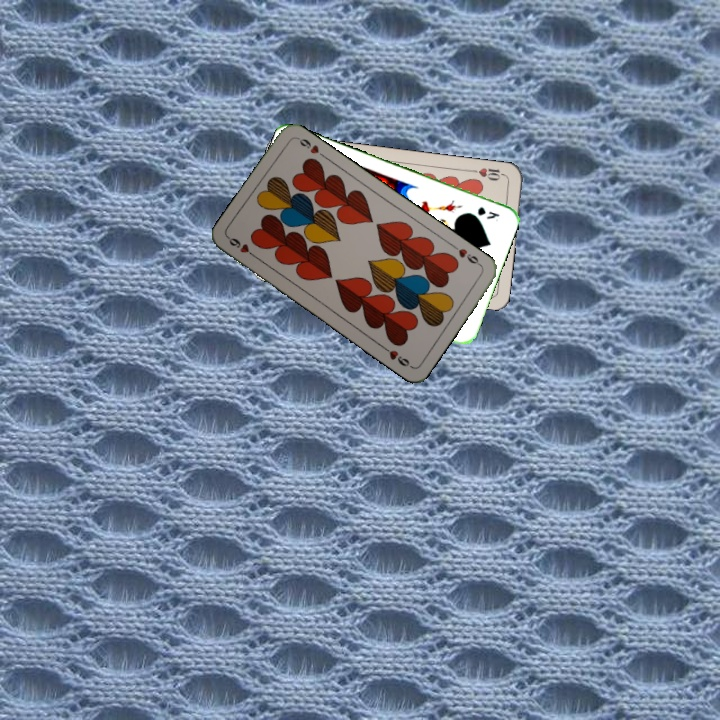GK: (473, 202, 502, 222)
H10: (468, 164, 508, 183)
H9: (448, 241, 484, 269), (224, 233, 260, 261)
